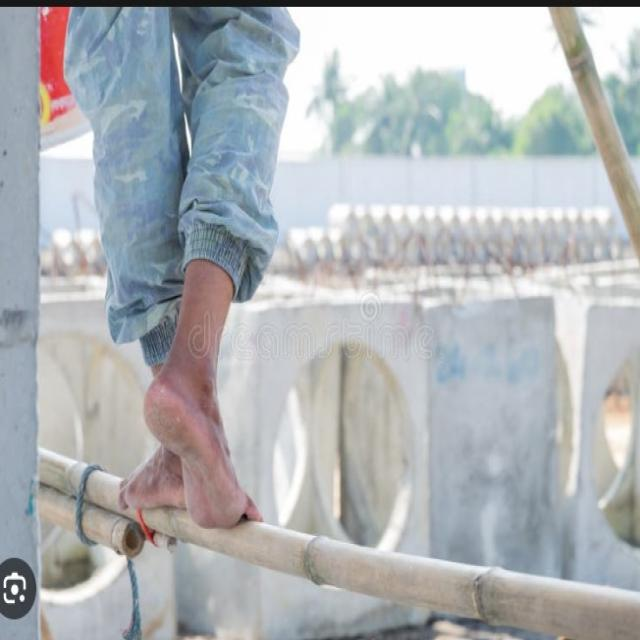Glasses: (117, 297, 310, 600)
